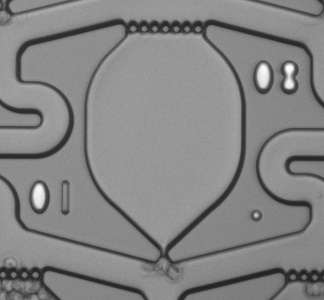AptNum: (248, 53, 304, 103)
Marker: (246, 205, 269, 227)
StNum: (26, 174, 77, 222)
Trap: (139, 251, 188, 294)
